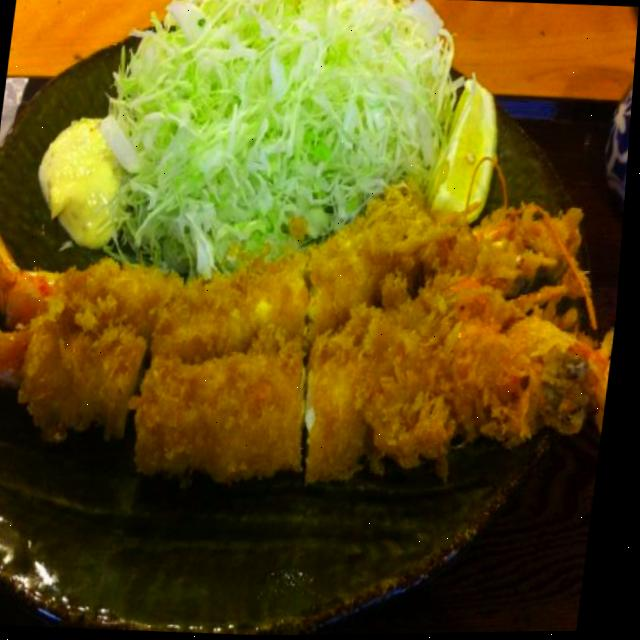蔬菜料理: (59, 0, 455, 308)
